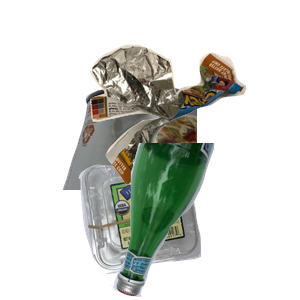glass: (109, 143, 300, 300)
metal: (60, 82, 300, 262)
plastic: (76, 151, 270, 300)
trash: (88, 42, 300, 219)
